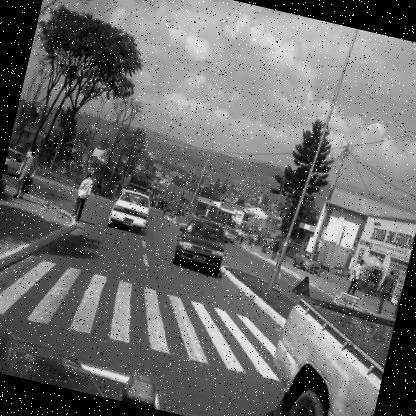Car: (171, 214, 230, 276), (106, 184, 152, 236), (2, 147, 32, 179)
